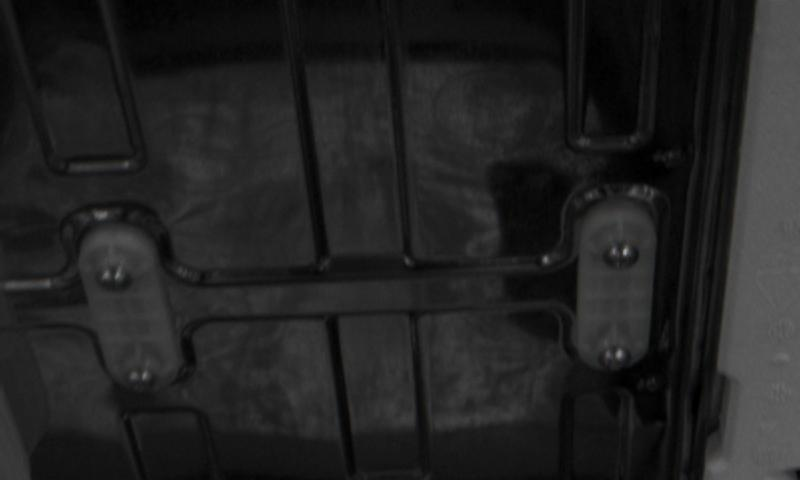vida-ok: (94, 261, 140, 305), (600, 246, 647, 289), (593, 345, 639, 384), (122, 362, 167, 401)
